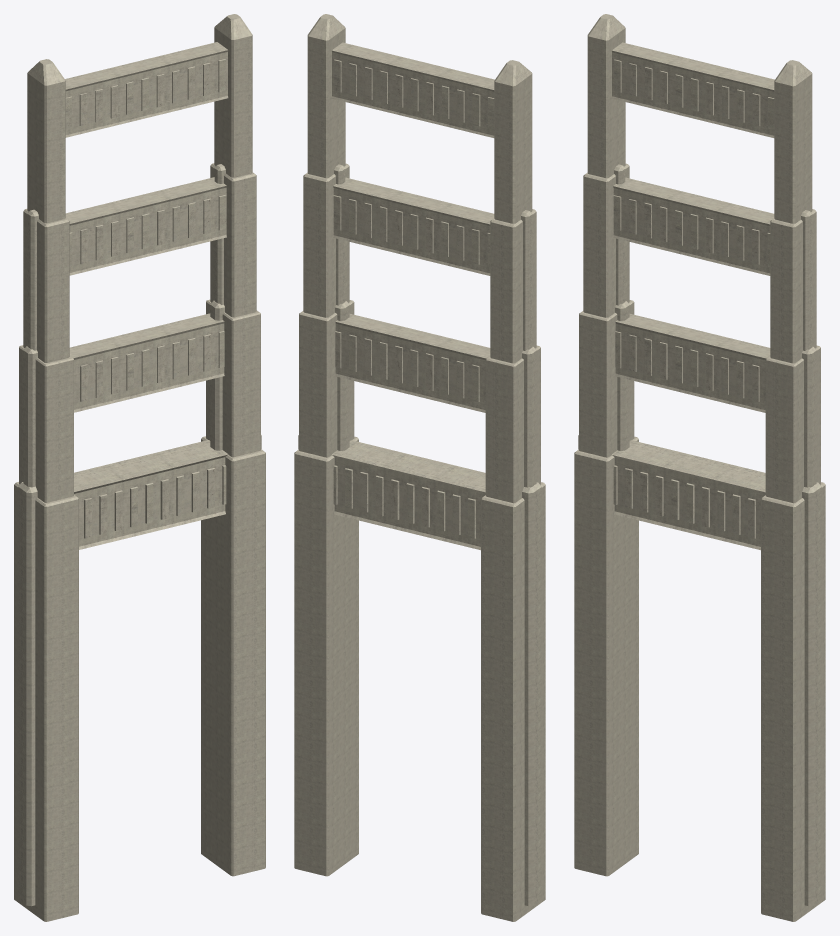
File: BridgeSuspensionPillar-6L.FBX
The picture shows the model from 3 angles, left to right: view 1: azimuth 30°, elevation 25°; view 2: azimuth 150°, elevation 25°; view 3: azimuth 330°, elevation 25°; orthographic projection.
Parts seen in each view (by area): view 1: BridgeSuspensionPillar-6L; view 2: BridgeSuspensionPillar-6L; view 3: BridgeSuspensionPillar-6L.
Boxes of the visible parts, left/top/right/bottom form: BridgeSuspensionPillar-6L: left=14, top=14, right=265, bottom=921; BridgeSuspensionPillar-6L: left=294, top=14, right=545, bottom=921; BridgeSuspensionPillar-6L: left=574, top=14, right=825, bottom=921.
Size of the model in its own units: 68 by 233 by 16.
